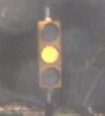Yellow: (34, 13, 62, 103)
